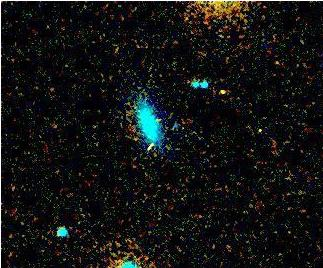star: (207, 77, 237, 107)
